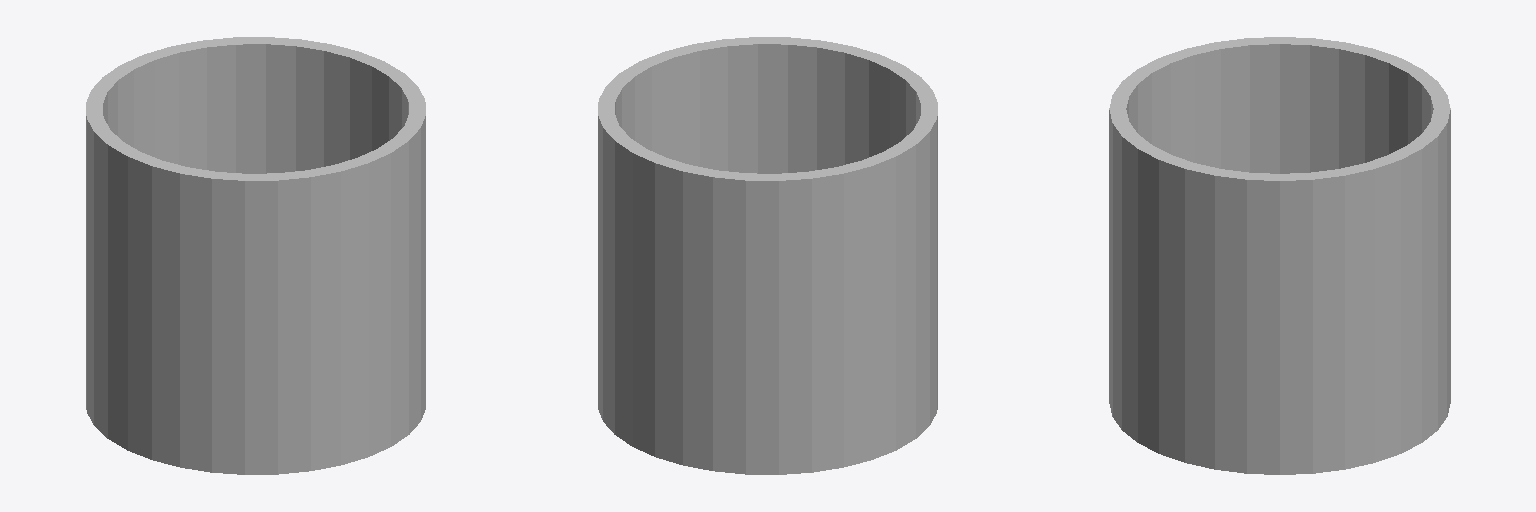
The model's file is bucket-dark.obj.
3 views of the same model, side by side, from view 1: azimuth 30°, elevation 25°; view 2: azimuth 150°, elevation 25°; view 3: azimuth 270°, elevation 25° (orthographic).
Parts seen in each view (by area): view 1: can_Circle; view 2: can_Circle; view 3: can_Circle.
Part boxes in pixels (bbox=[...]): can_Circle: bbox=[86, 37, 425, 474]; can_Circle: bbox=[598, 37, 937, 474]; can_Circle: bbox=[1109, 37, 1450, 474].
Bounding box in the file's own units: 2 × 1.9 × 2.